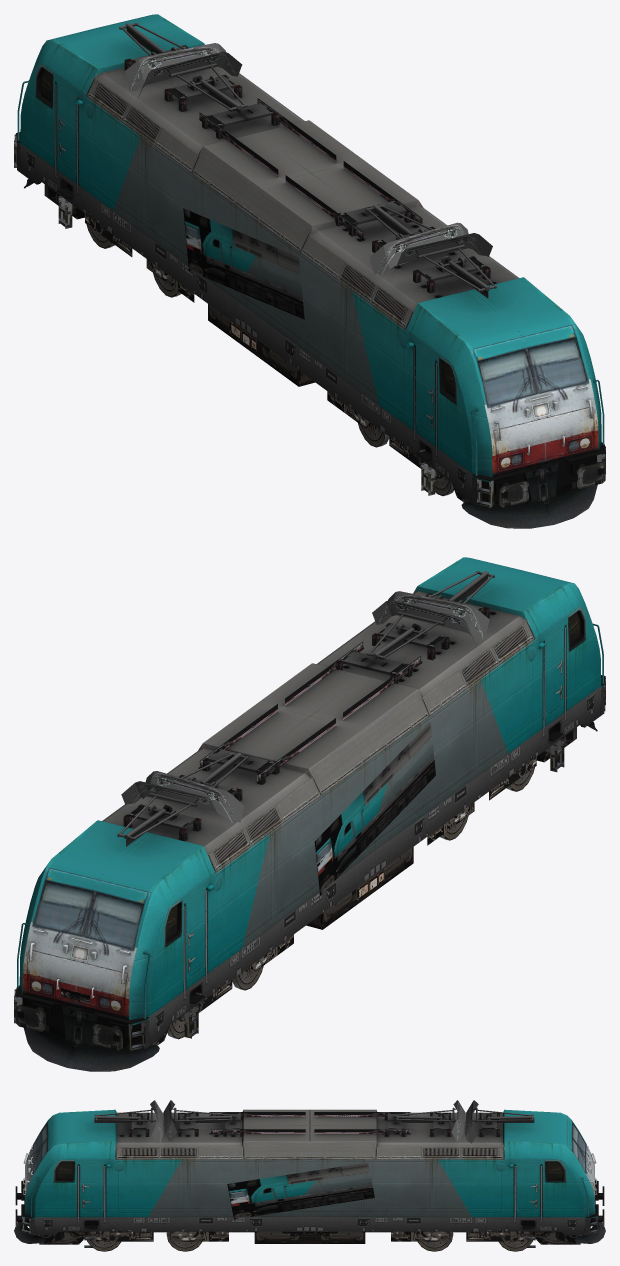
Rendered from loco1.obj.
3 renders of one model, top to bottom at view 1: azimuth 30°, elevation 25°; view 2: azimuth 150°, elevation 25°; view 3: azimuth 270°, elevation 25°, orthographic. The views are drawn at different scales.
Size of the model in its own units: 4.19 by 6.18 by 25.68.
3 materials, 3 textured.
